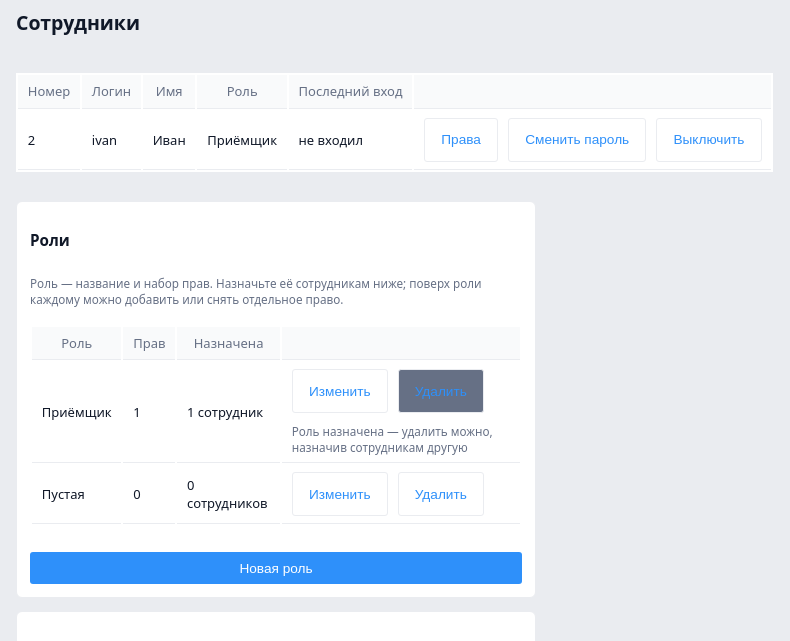
Test: сторож размонтирования на сотрудниках › в StrictMode роли, права и справочник доезжают до экрана
Check: the button with aria-label "Изменить роль: Приёмщик" is shown, box [292,369,388,413]
Check: the button with aria-label "Изменить роль: Пустая" is shown, box [292,472,388,516]
Click the button with aria-label "Права: ivan". click: (461,140)
box: [424,118,498,162]
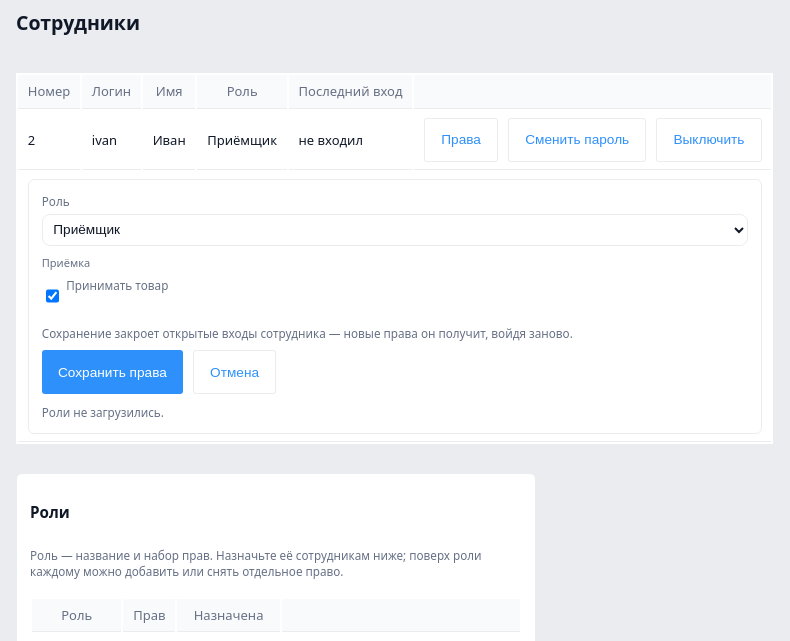
Check: the checkbox labelled "Принимать товар" is shown, box [46,280,59,312]
